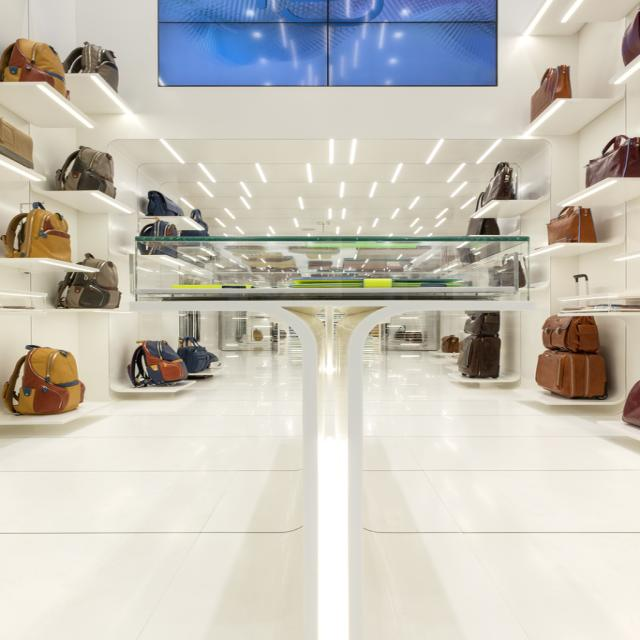backpack: (530, 306, 606, 399), (8, 344, 88, 414), (0, 42, 69, 96), (52, 140, 118, 196), (577, 135, 639, 184), (14, 204, 64, 260), (65, 263, 121, 313), (454, 314, 496, 378), (62, 42, 121, 84), (514, 69, 570, 112), (540, 203, 596, 240), (131, 341, 182, 381), (148, 223, 181, 258), (475, 166, 513, 195), (184, 342, 210, 374)
